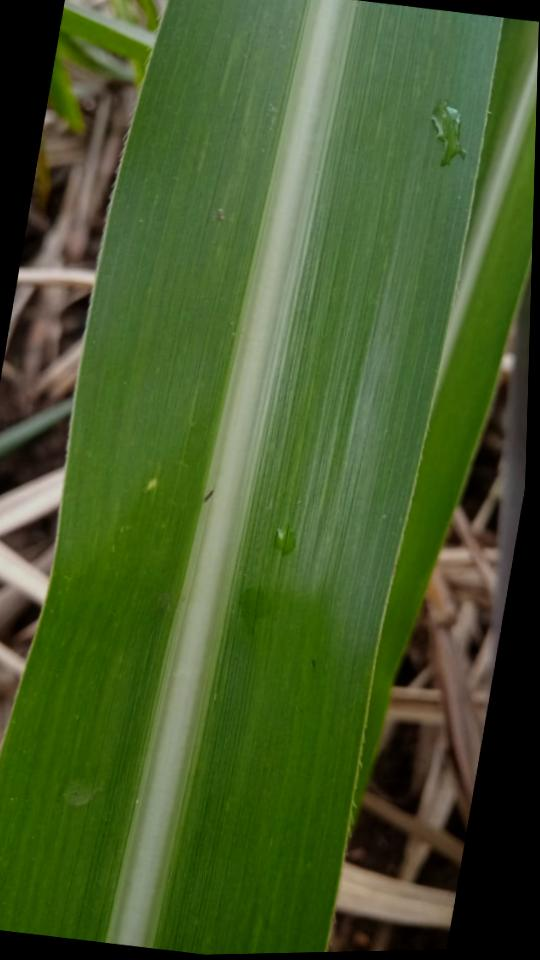Healthy: (0, 0, 503, 955), (350, 17, 539, 827)
